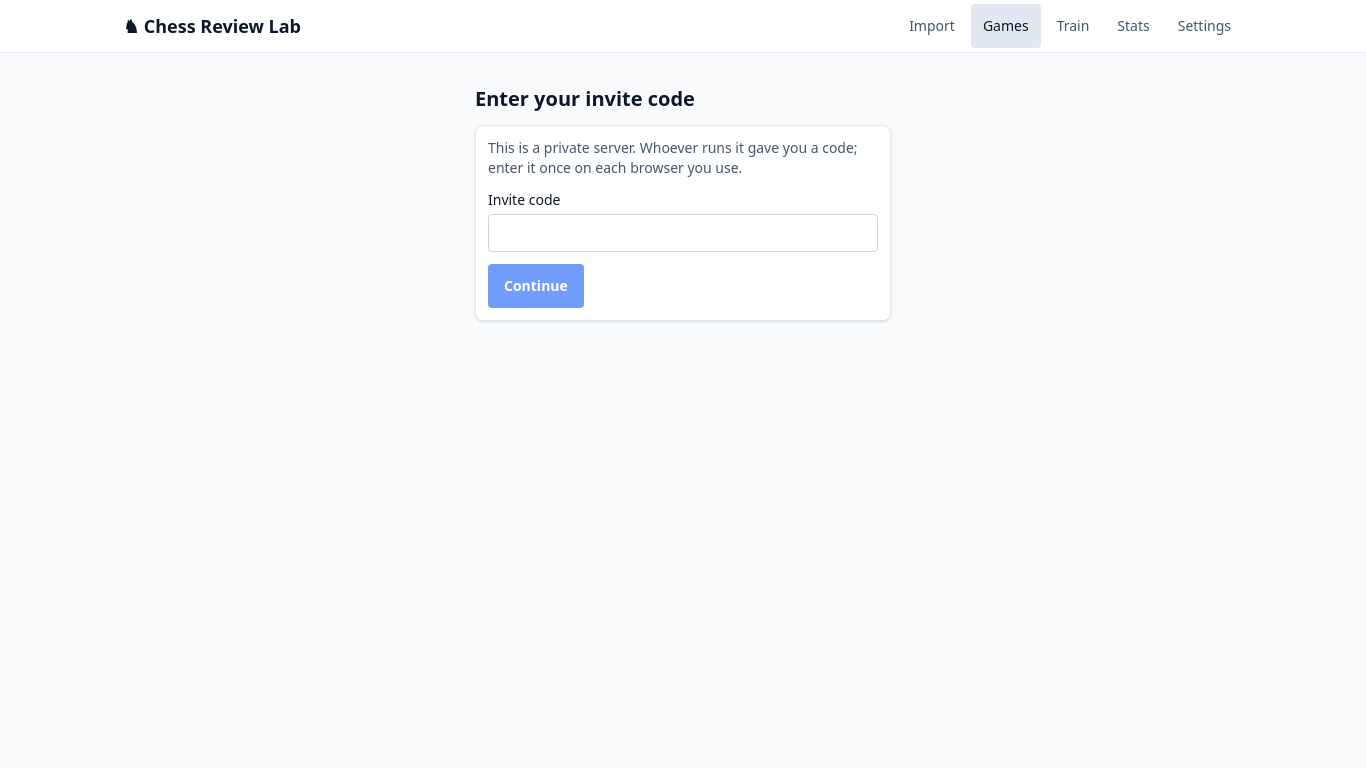
Test: private server › shows the invite page instead of the app until a code is accepted
The image size is (1366, 768).
Expected: the heading "Enter your invite code" is shown, x1=475 y1=85 x2=695 y2=112
Expected: the text "Your games" is not shown
Type "wrong" into the field labelled "Invite code" at coordinates (683, 233), box x1=488 y1=214 x2=878 y2=252
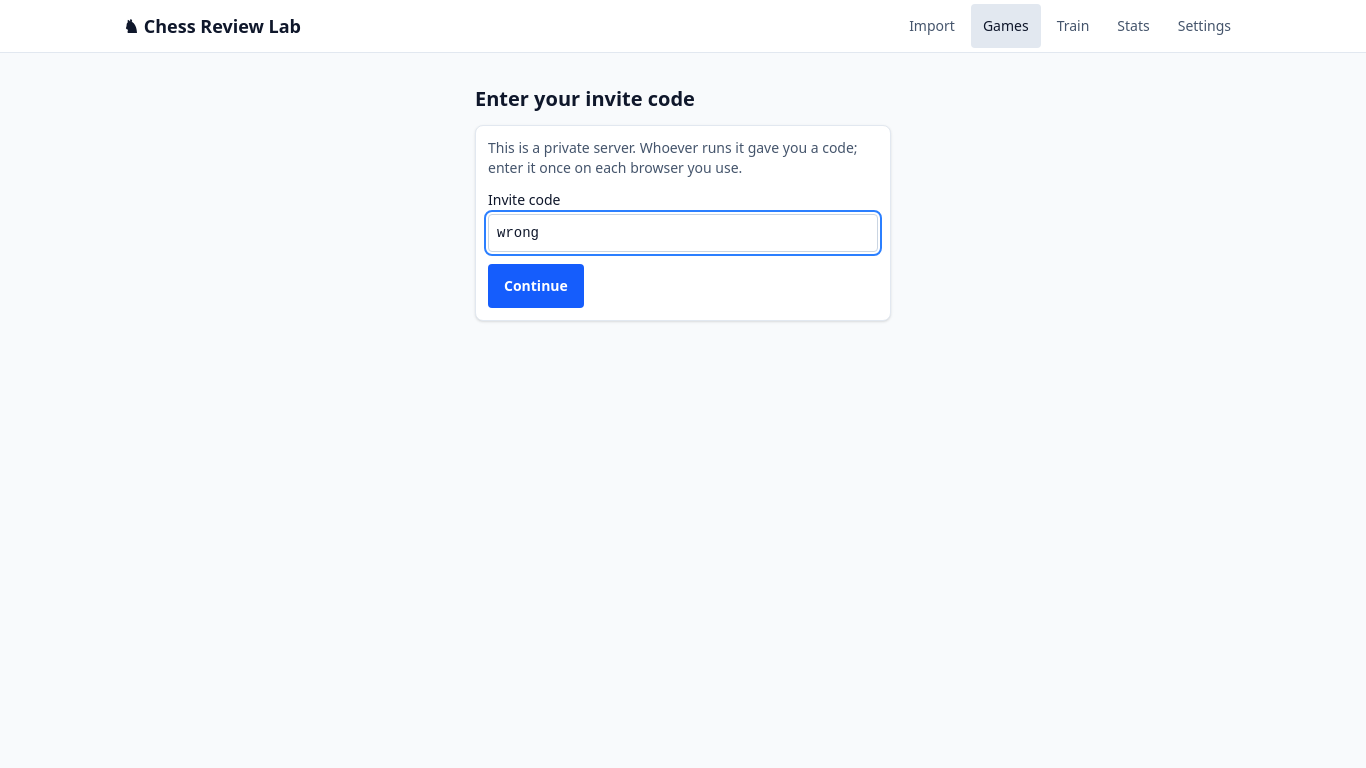
Click the button "Continue" at coordinates (536, 286), box x1=488 y1=264 x2=584 y2=308
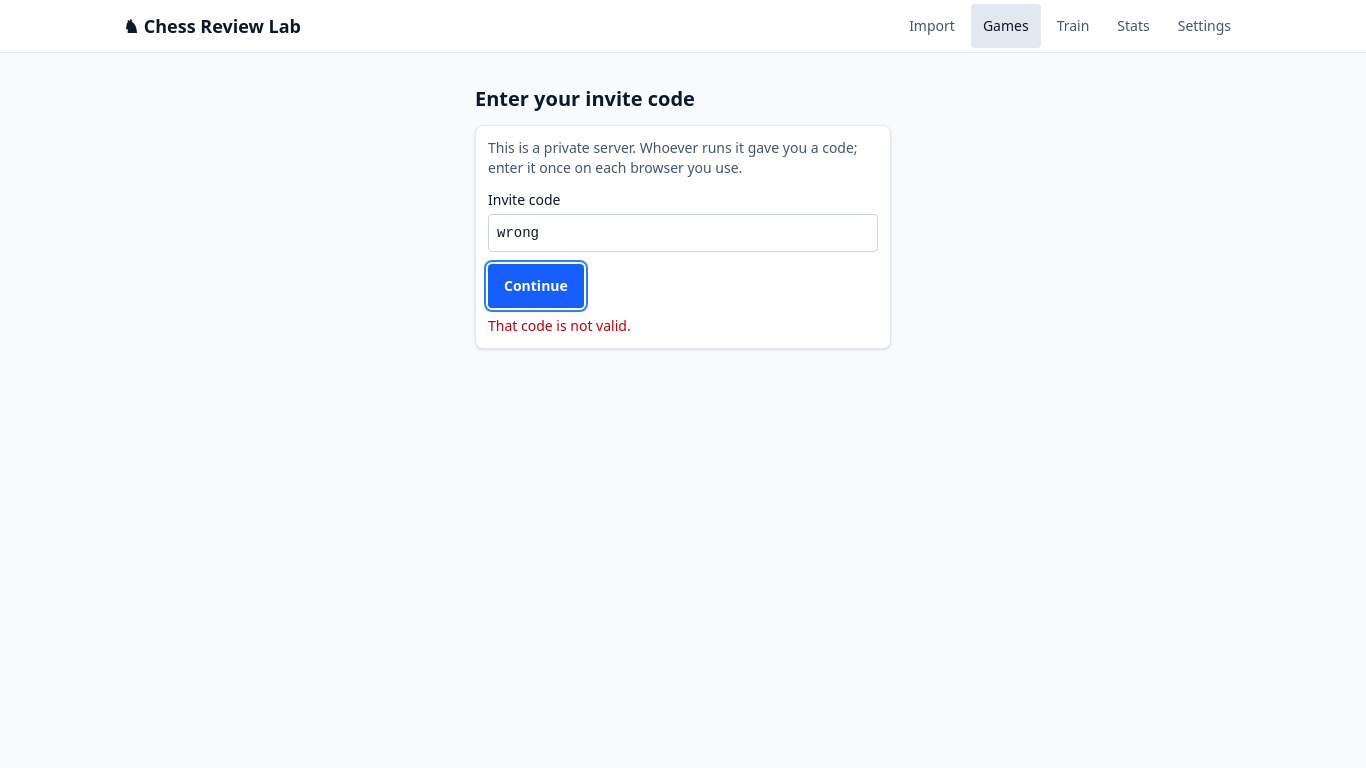
Expected: the message reads "That code is not valid.", x1=488 y1=316 x2=631 y2=335
Replace the text in the field labelled "Invite code" with "good-code" at coordinates (683, 233), box x1=488 y1=214 x2=878 y2=252
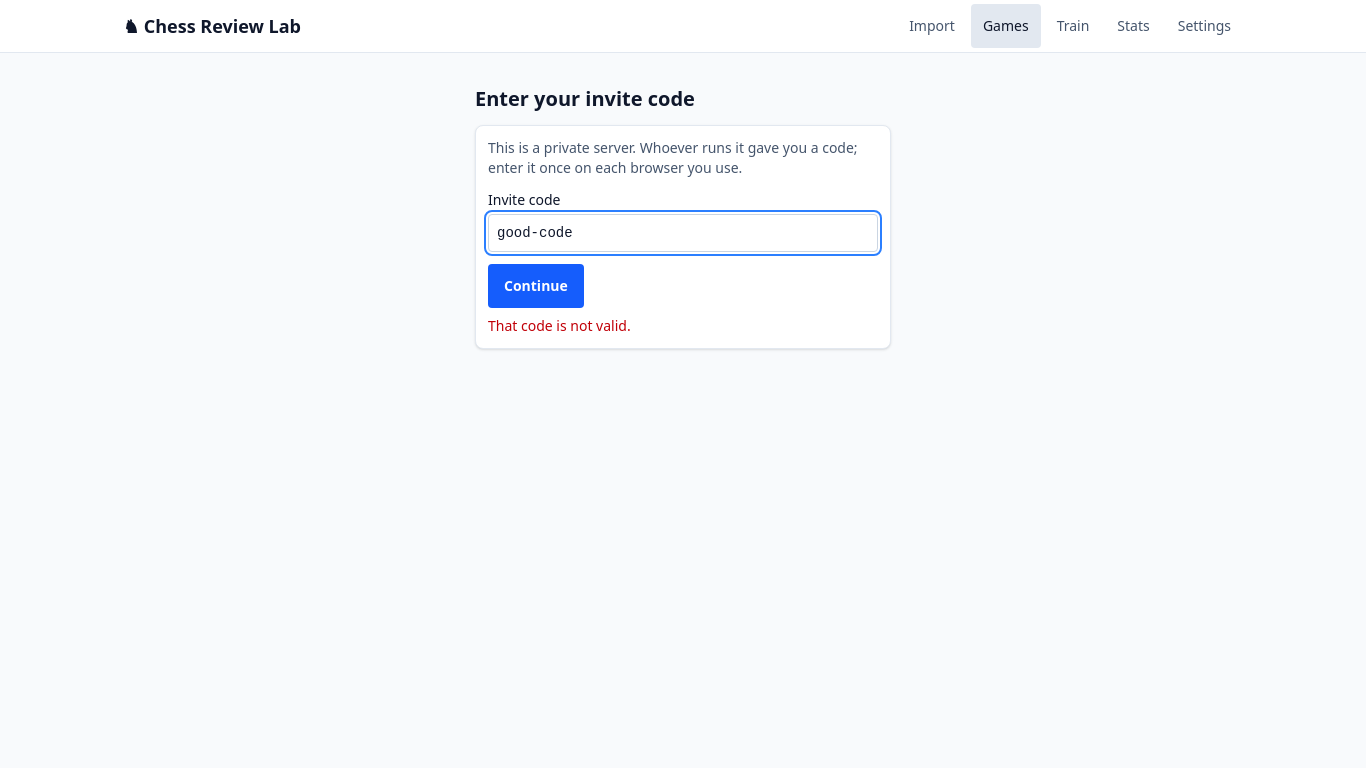
Click the button "Continue" at coordinates (536, 286), box x1=488 y1=264 x2=584 y2=308
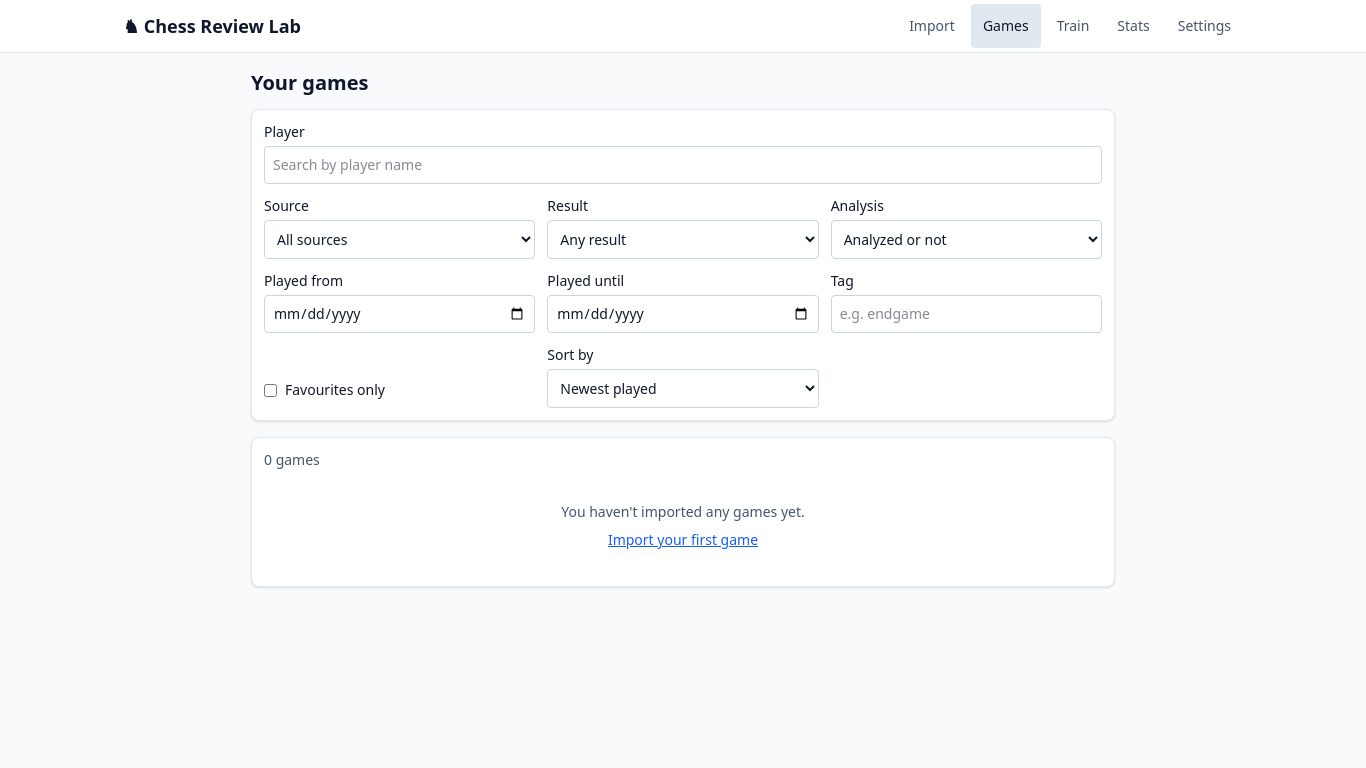
Expected: the heading "Your games" is shown, x1=251 y1=69 x2=368 y2=96
